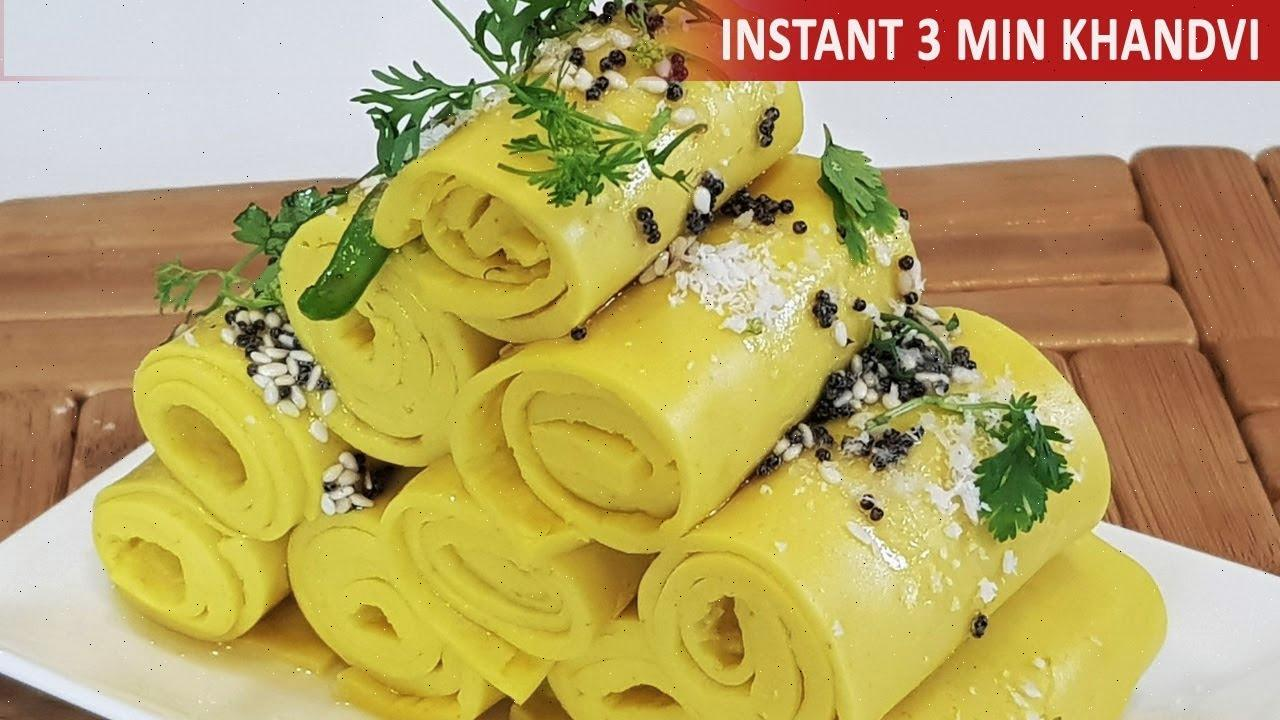khandvi: (128, 78, 1206, 720)
